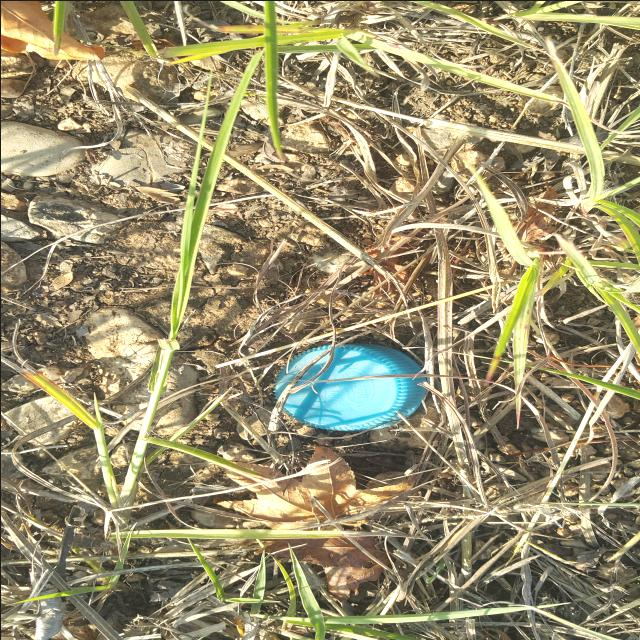Plastic bottle cap: (272, 342, 426, 430)
